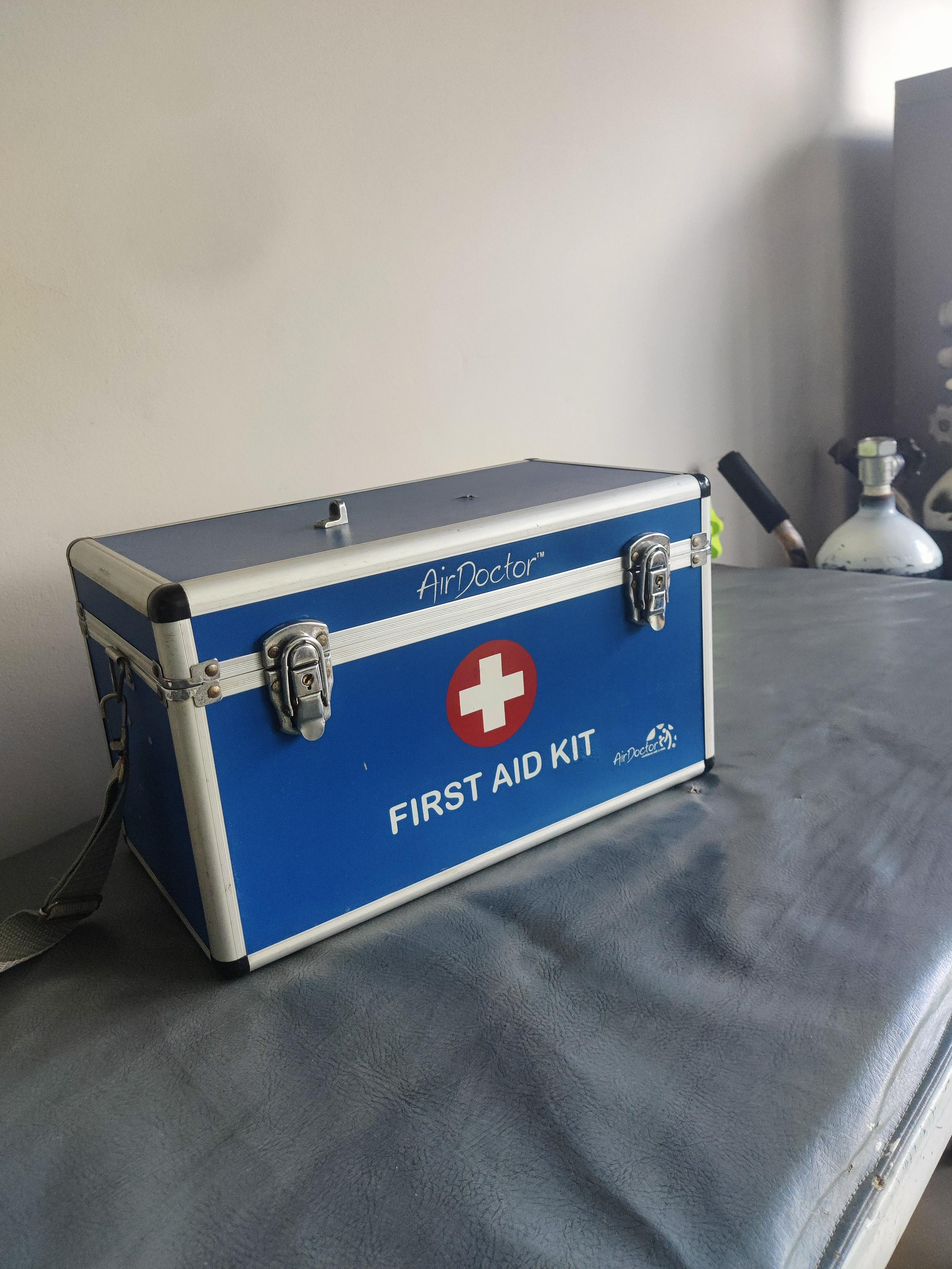FirstAidBox: (43, 428, 748, 983)
